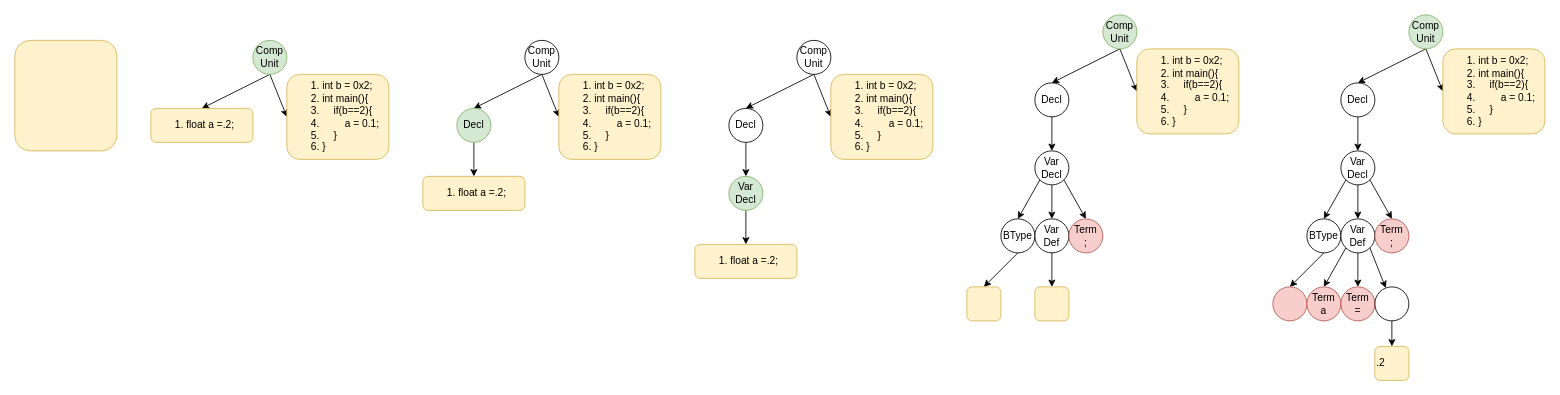
The diagram is 1560 pixels wide and 395 high, and some of its shapes have lost their labels. The shapes that lost their labels are listed below. From the top down, each one's centre as x and y in pixels, then its label:
(65,95): float a =.2; int b = 0x2; int main(){ if(b==2){ a = 0.1; } }
(983,303): float
(1051,303): a = .2
(1289,303): Term float
(1391,303): Init Val
